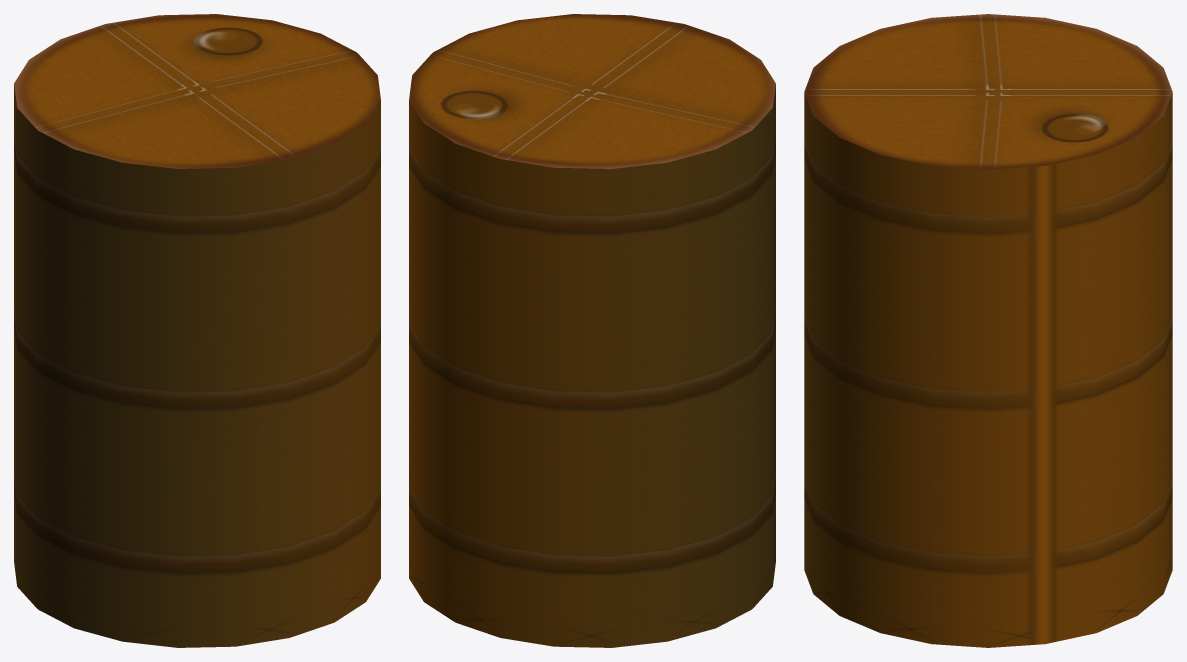
The model's file is Barrel_01.fbx.
3 views of the same model, side by side, from view 1: azimuth 30°, elevation 25°; view 2: azimuth 150°, elevation 25°; view 3: azimuth 270°, elevation 25° (orthographic).
Visible parts, largest first — view 1: Barrel_02; view 2: Barrel_02; view 3: Barrel_02.
Boxes of the visible parts, <box> form: Barrel_02: <box>14,14,380,647</box>; Barrel_02: <box>409,14,775,647</box>; Barrel_02: <box>804,14,1172,647</box>.
Bounding box in the file's own units: 1.96 × 2.81 × 1.96.
